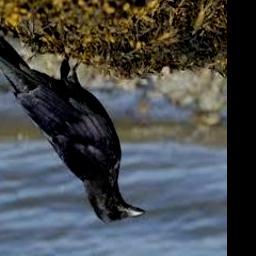Crow: (0, 33, 144, 224)
